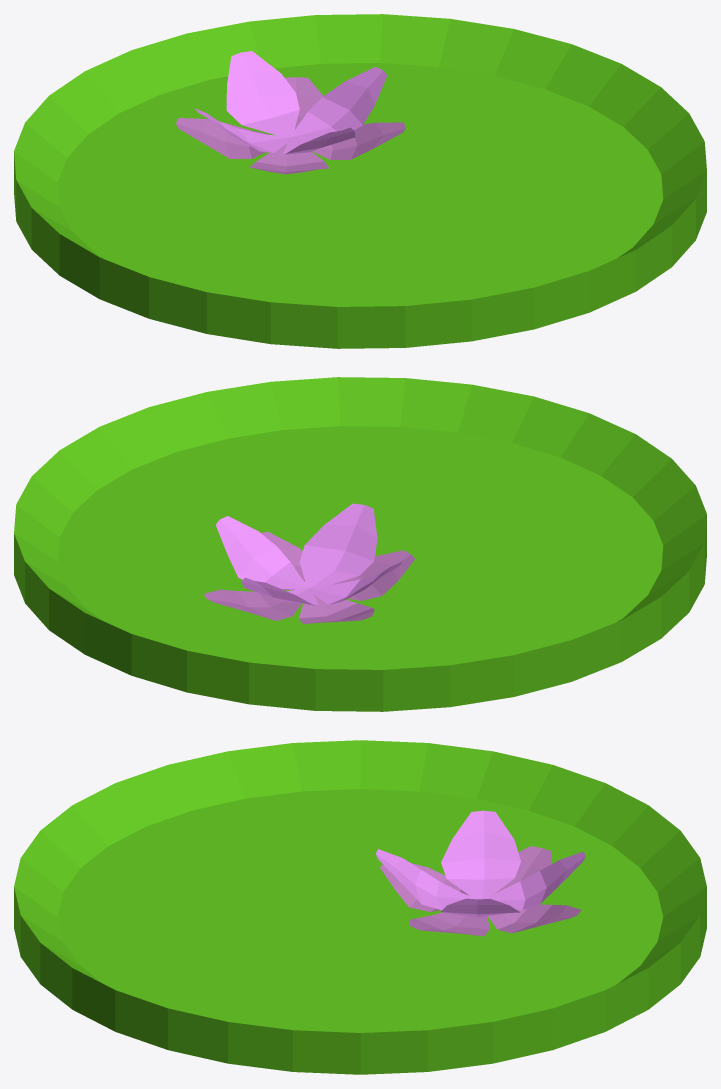
File: waterlily_big_flower.fbx
3 views of the same model, one above another, from view 1: azimuth 30°, elevation 25°; view 2: azimuth 150°, elevation 25°; view 3: azimuth 270°, elevation 25° (orthographic).
Visible parts, largest first — view 1: Waterlily, Flower_Purple; view 2: Waterlily, Flower_Purple; view 3: Waterlily, Flower_Purple.
Boxes of the visible parts, box(x1,y1,x2,y2) form: Waterlily: box(14, 14, 706, 348); Flower_Purple: box(176, 51, 405, 174); Waterlily: box(14, 377, 706, 711); Flower_Purple: box(204, 503, 414, 623); Waterlily: box(14, 740, 706, 1074); Flower_Purple: box(376, 810, 585, 936).
Bounding box in the file's own units: 38.21 × 4.19 × 38.21.
